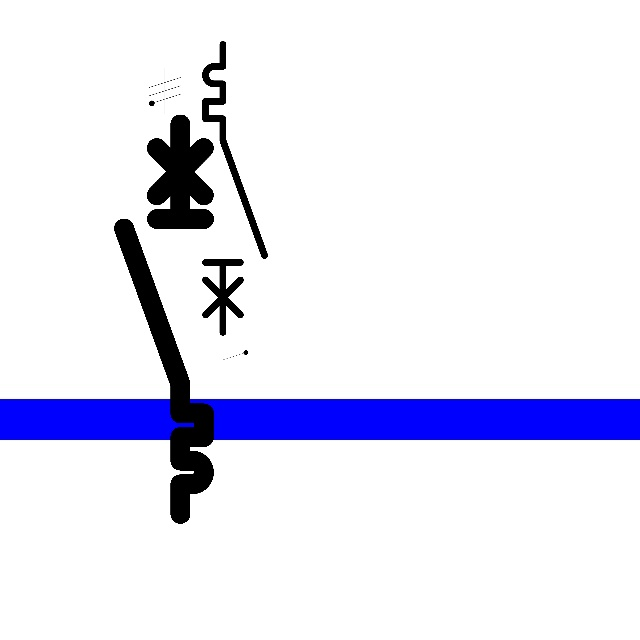interruptor_termomagnetico: (114, 114, 214, 524), (198, 37, 272, 340)
